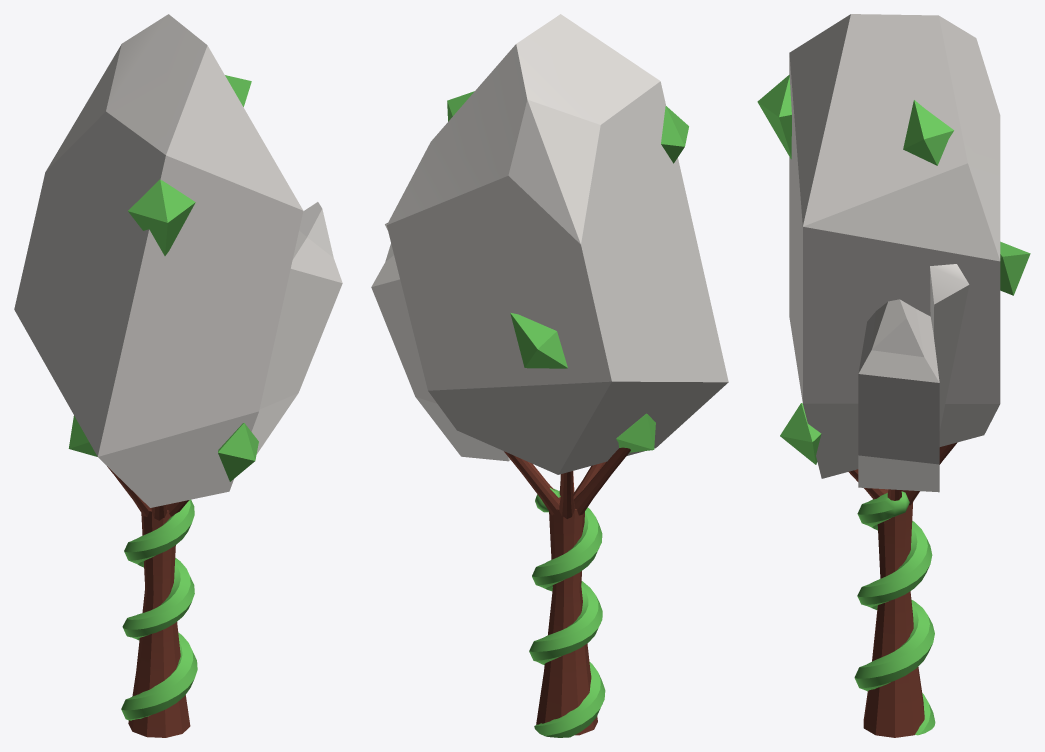
Rendered from Assainisseur.fbx.
3 renders of one model, left to right at view 1: azimuth 30°, elevation 25°; view 2: azimuth 150°, elevation 25°; view 3: azimuth 270°, elevation 25°, orthographic. The views are drawn at different scales.
Parts seen in each view (by area): view 1: Assainisseur; view 2: Assainisseur; view 3: Assainisseur.
Boxes of the visible parts, box(x1,y1,x2,y2) form: Assainisseur: box(14, 14, 342, 737); Assainisseur: box(371, 14, 728, 737); Assainisseur: box(757, 14, 1030, 737).
Size of the model in its own units: 140 by 320 by 110.
